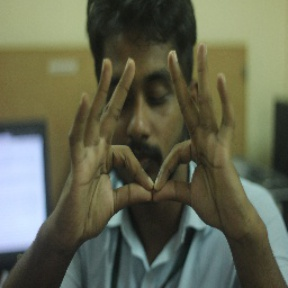B: (97, 133, 206, 225)
